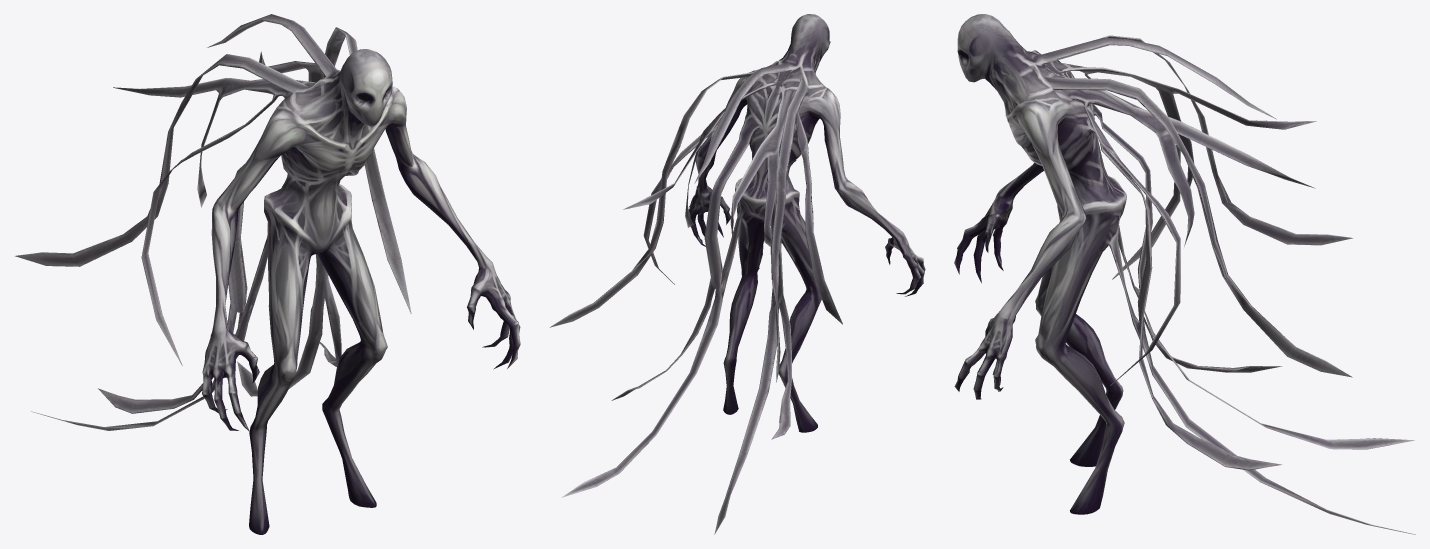
File: hush.glb
3 views of the same model, side by side, from view 1: azimuth 30°, elevation 25°; view 2: azimuth 150°, elevation 25°; view 3: azimuth 270°, elevation 25° (orthographic). The views are drawn at different scales.
Parts seen in each view (by area): view 1: Mesh_0; view 2: Mesh_0; view 3: Mesh_0.
Boxes of the visible parts, bbox=[...] form: Mesh_0: bbox=[15, 14, 520, 534]; Mesh_0: bbox=[550, 14, 925, 534]; Mesh_0: bbox=[954, 14, 1415, 534].
Bounding box in the file's own units: 0.6474 × 1 × 0.8864.
1 material, 1 textured.
